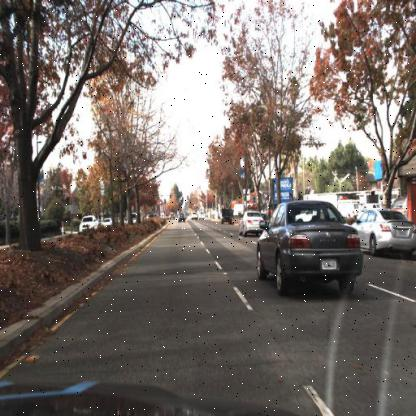car: (255, 197, 364, 302), (346, 208, 415, 256), (238, 208, 265, 240), (76, 214, 99, 234), (78, 214, 100, 232), (343, 196, 361, 216), (99, 215, 115, 228), (221, 207, 232, 224), (191, 210, 201, 226), (168, 209, 179, 223), (176, 212, 186, 225)
